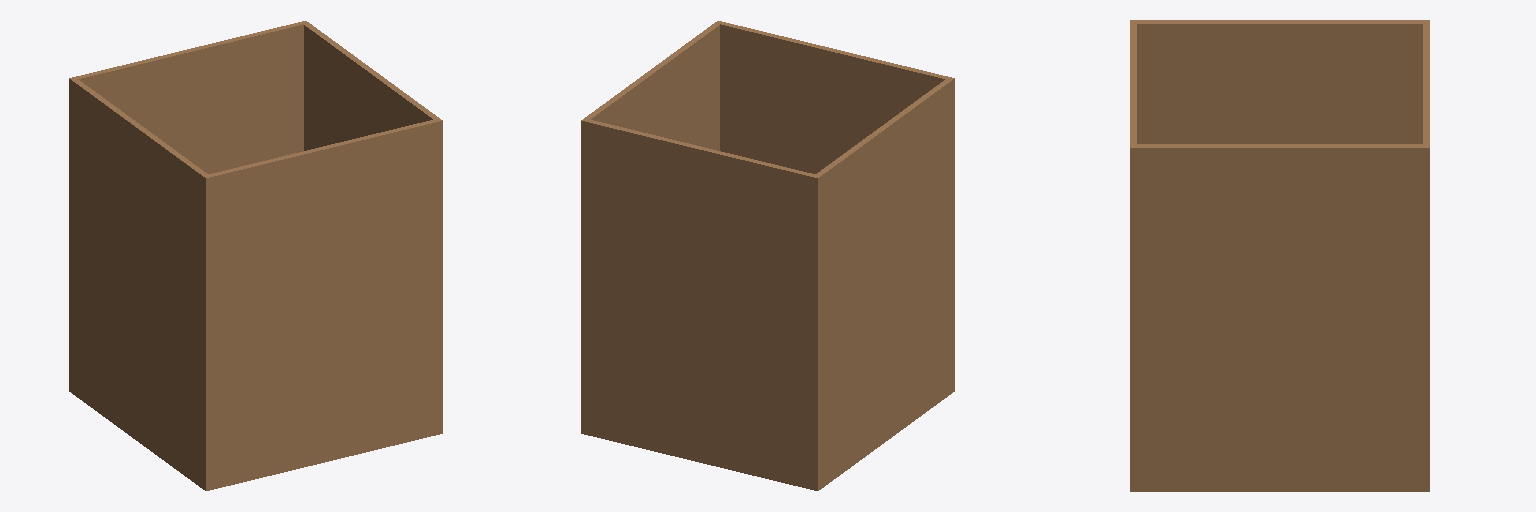
URDF robot description (box):
<robot name="box">
  <material name="Box_color">
    <color rgba="0.678 0.529 0.384 1.0"/>
  </material>
  <material name="Green">
    <color rgba="0 1 0 1.0"/>
  </material>

    <link name="base1">
        <inertial>
            <origin xyz="0 0 0"/>
            <mass value="1"/>
            <inertia ixx="0.0267" ixy="0" ixz="0" iyy="0.0267" iyz="0" izz="0.0267"/>
        </inertial>
        <!-- <visual>
            <origin xyz="0 0 0"/>
            <geometry>
                <box size="0.4 0.4 0.4"/>
            </geometry>
            <material name="Box_color"/>
        </visual> -->
               <visual>
            <origin xyz="0 0 -0.25"/>
            <geometry>
                <box size="0.4 0.4 0.01"/>
            </geometry>
            <material name="Box_color"/>
        </visual>
        <visual>
            <origin xyz="0 0.195 0"/>
            <geometry>
                <box size="0.4 0.01 0.5"/>
            </geometry>
            <material name="Box_color"/>
        </visual>
        <visual>
            <origin xyz="0 -0.195 0"/>
            <geometry>
                <box size="0.4 0.01 0.5"/>
            </geometry>
            <material name="Box_color"/>
        </visual>

        <visual>
            <origin xyz="0.195 0 0"/>
            <geometry>
                <box size="0.01 0.4 0.5"/>
            </geometry>
            <material name="Box_color"/>
        </visual>
        <visual>
            <origin xyz="-0.195 0 0"/>
            <geometry>
                <box size="0.01 0.4 0.5"/>
            </geometry>
            <material name="Box_color"/>
        </visual>
    </link>
</robot>

--- Facts derived from the render (not from the file) ---
Views: 3 orthographic renders of the robot side by side, from view 1: azimuth 30°, elevation 25°; view 2: azimuth 150°, elevation 25°; view 3: azimuth 270°, elevation 25°.
Model box with 1 links and 0 joints (none), rooted at base1, posed every joint at zero.
Visible links, largest first — view 1: base1; view 2: base1; view 3: base1.
Boxes of the visible links, x1,y1,x2,y2 form: base1: (69, 21, 442, 490); base1: (581, 21, 954, 490); base1: (1130, 20, 1429, 491).
Bounding box of the posed robot: 0.4 × 0.4 × 0.505 m (x, y, z).
Geometry: primitives only (box / cylinder / sphere), no mesh files.
